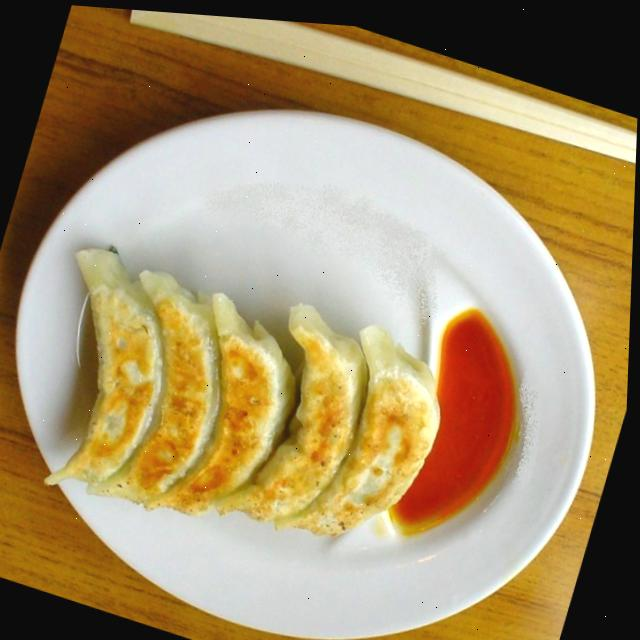带馅早点: (8, 181, 479, 585)
